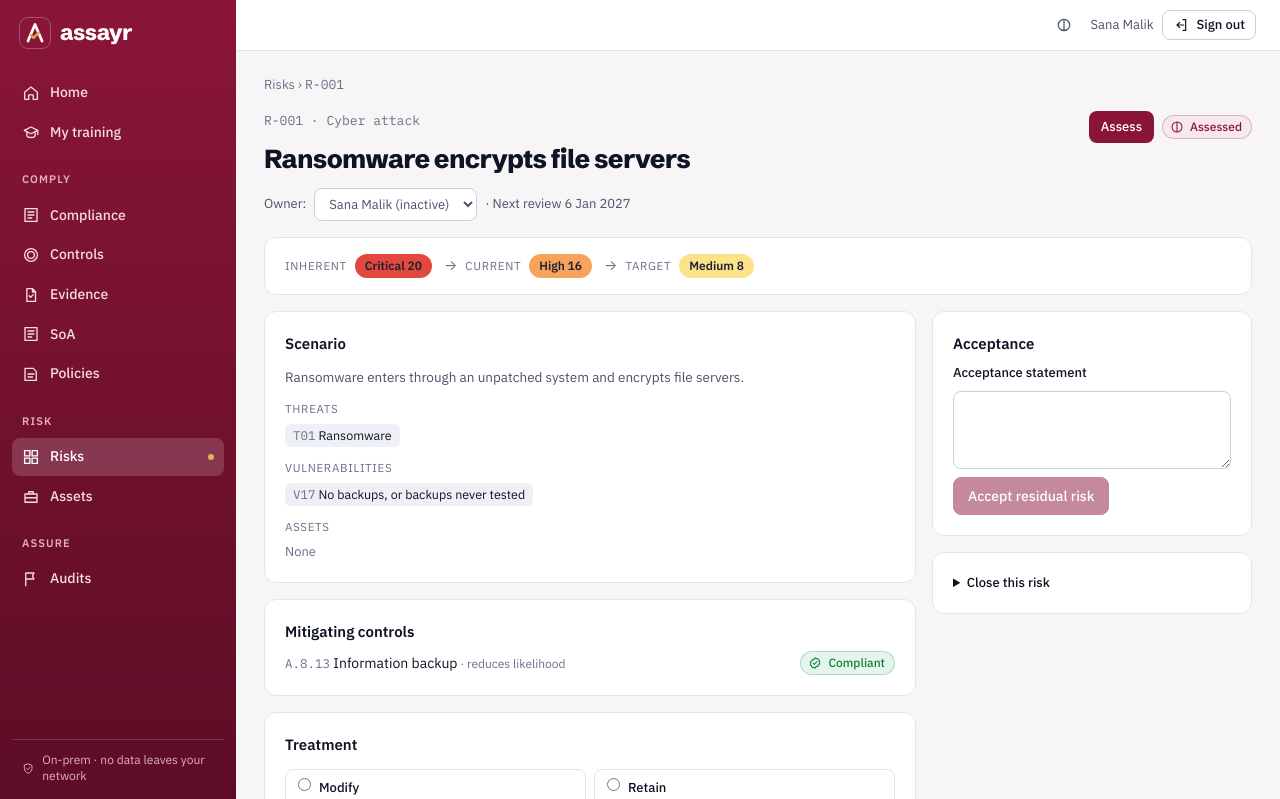
Test: shows the levels and controls, and the owner accepts the residual risk
expect the heading "Ransomware encrypts file servers" is shown: met, box [264,139,690,180]
expect the element named "Risk levels" shows "Critical 20": met, box [365,258,422,273]
In the text box labelled "Acceptance statement": {"x": 1092, "y": 430} [953,391,1231,469], type "Accepted for now."
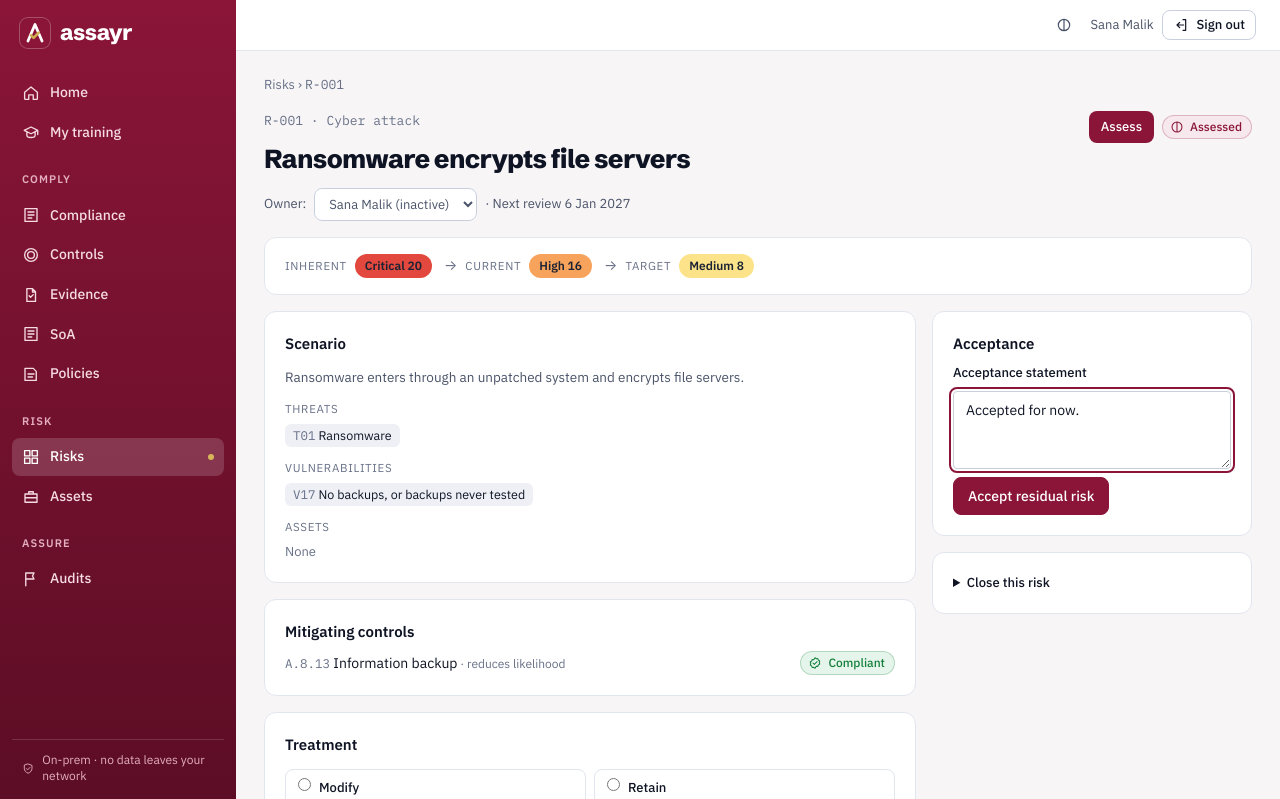
Click the button "Accept residual risk": {"x": 1031, "y": 496} [953,477,1110,515]
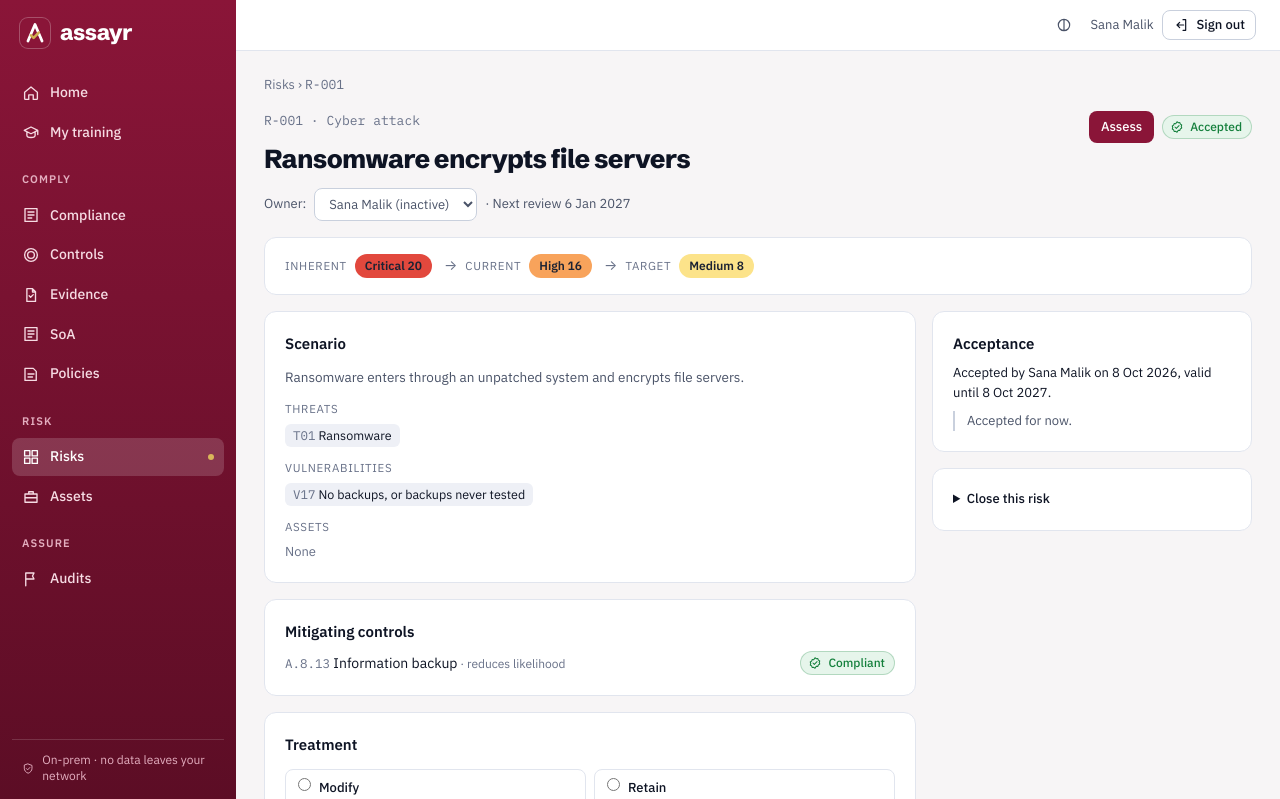
expect the text "Accepted by Sana Malik on 8 Oct 2026, valid until 8 Oct 2027" is shown: met, box [953,363,1231,403]
